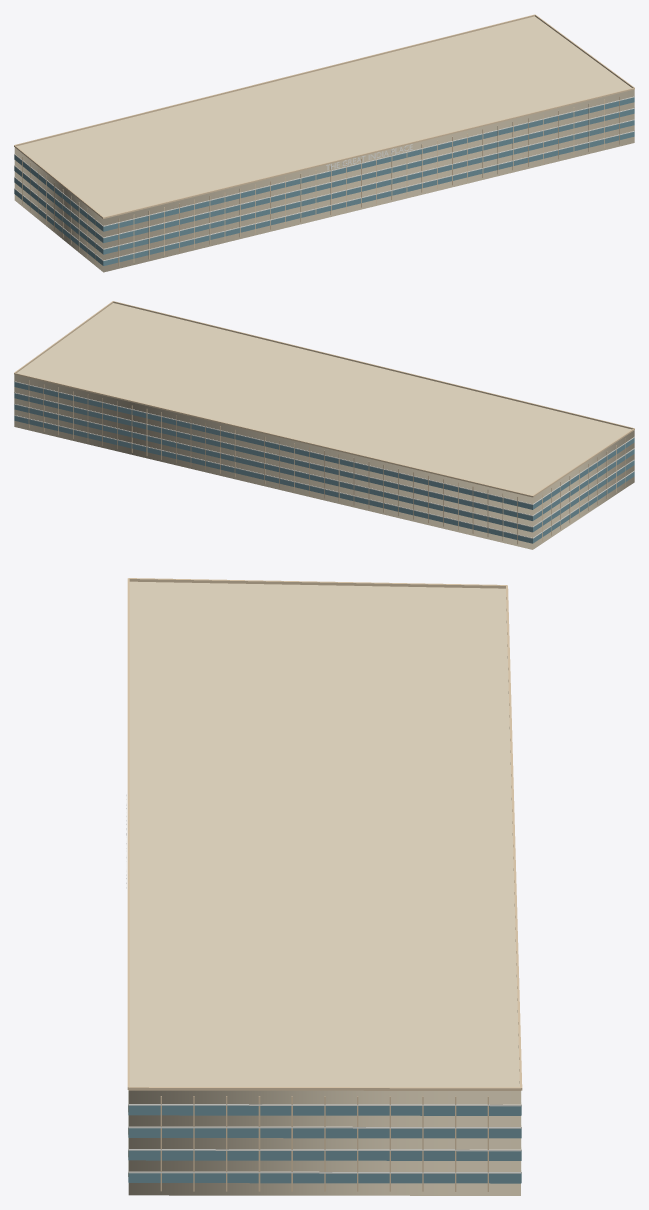
The model's file is great-india-place.glb.
The picture shows the model from 3 angles, top to bottom: view 1: azimuth 30°, elevation 25°; view 2: azimuth 150°, elevation 25°; view 3: azimuth 270°, elevation 25°; orthographic projection. The views are drawn at different scales.
Visible parts, largest first — view 1: NCR_great-india-place; view 2: NCR_great-india-place; view 3: NCR_great-india-place.
Part boxes in pixels (x1,y1,x2,y2): NCR_great-india-place: (14, 14, 634, 272); NCR_great-india-place: (14, 301, 634, 549); NCR_great-india-place: (126, 578, 522, 1195).
Bounding box in the file's own units: 243 × 24 × 79.58.
